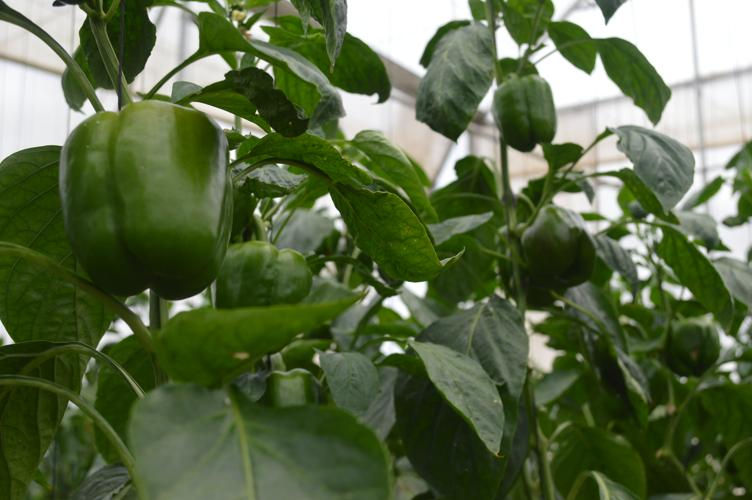BellPepper: (55, 102, 230, 299), (201, 243, 306, 311), (481, 79, 554, 153), (534, 210, 595, 282), (499, 235, 554, 304), (660, 320, 716, 375)
